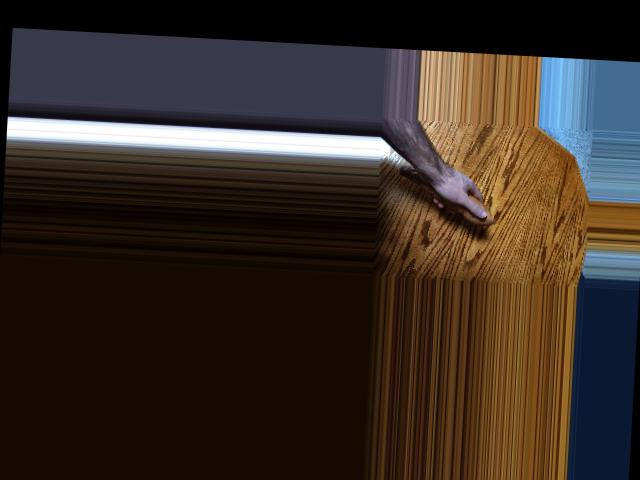sweet_potato: (380, 162, 498, 227)
